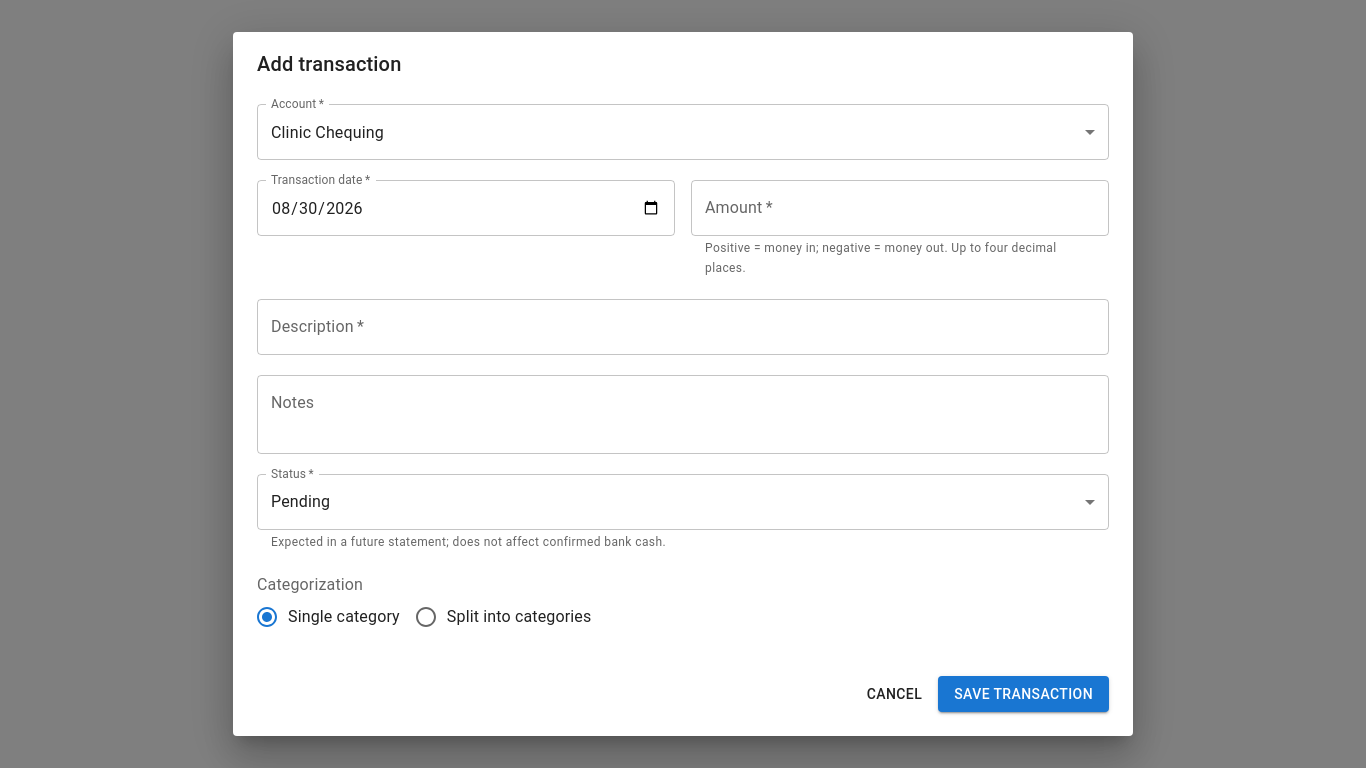
Scenario: transaction presentation and form › keeps the draft and maps Laravel 422 field errors
Type "25.0000" into the field labelled "Amount *".
click(900, 208); type("25.0000")  # box x1=691 y1=180 x2=1109 y2=236
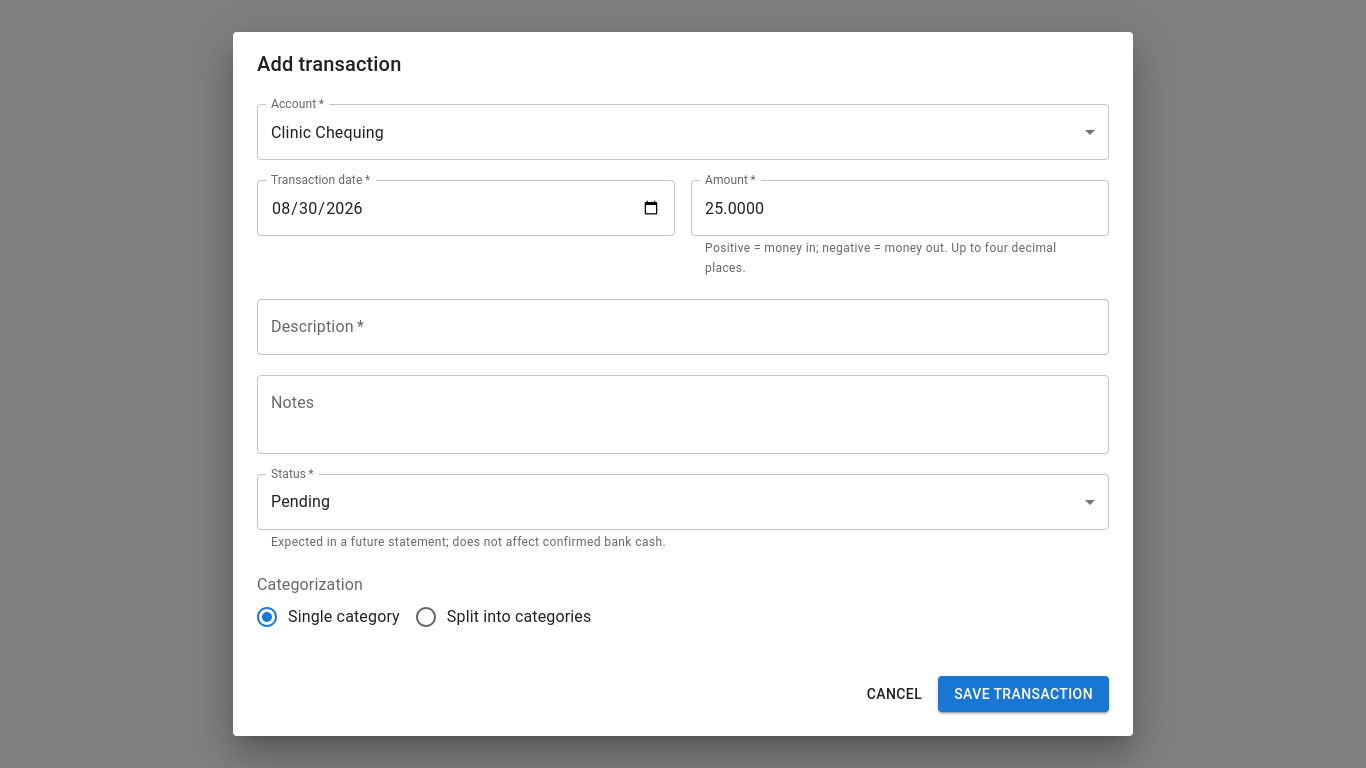
Type "Kept draft" into the field labelled "Description *".
click(683, 327); type("Kept draft")  # box x1=257 y1=299 x2=1109 y2=355
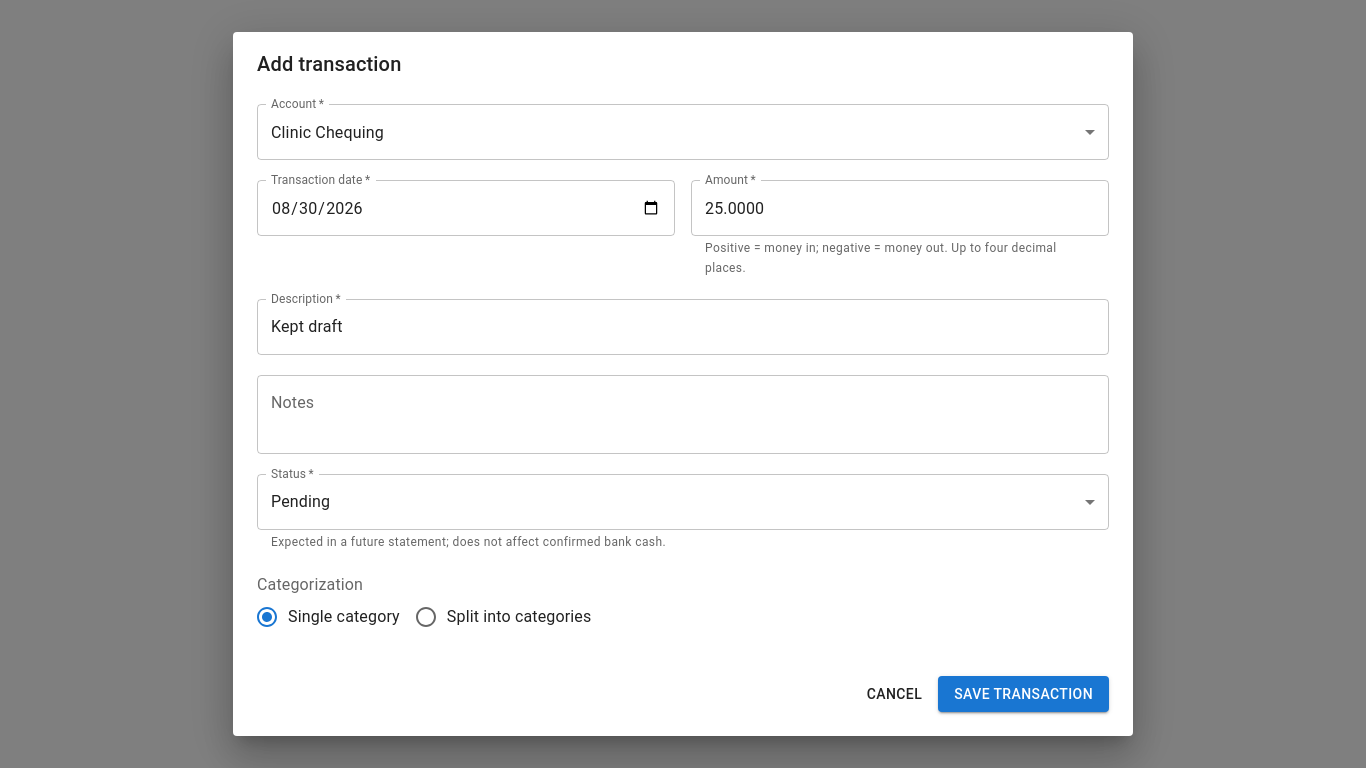
Click the button "Save transaction".
click(1024, 694)  # box x1=938 y1=676 x2=1109 y2=712
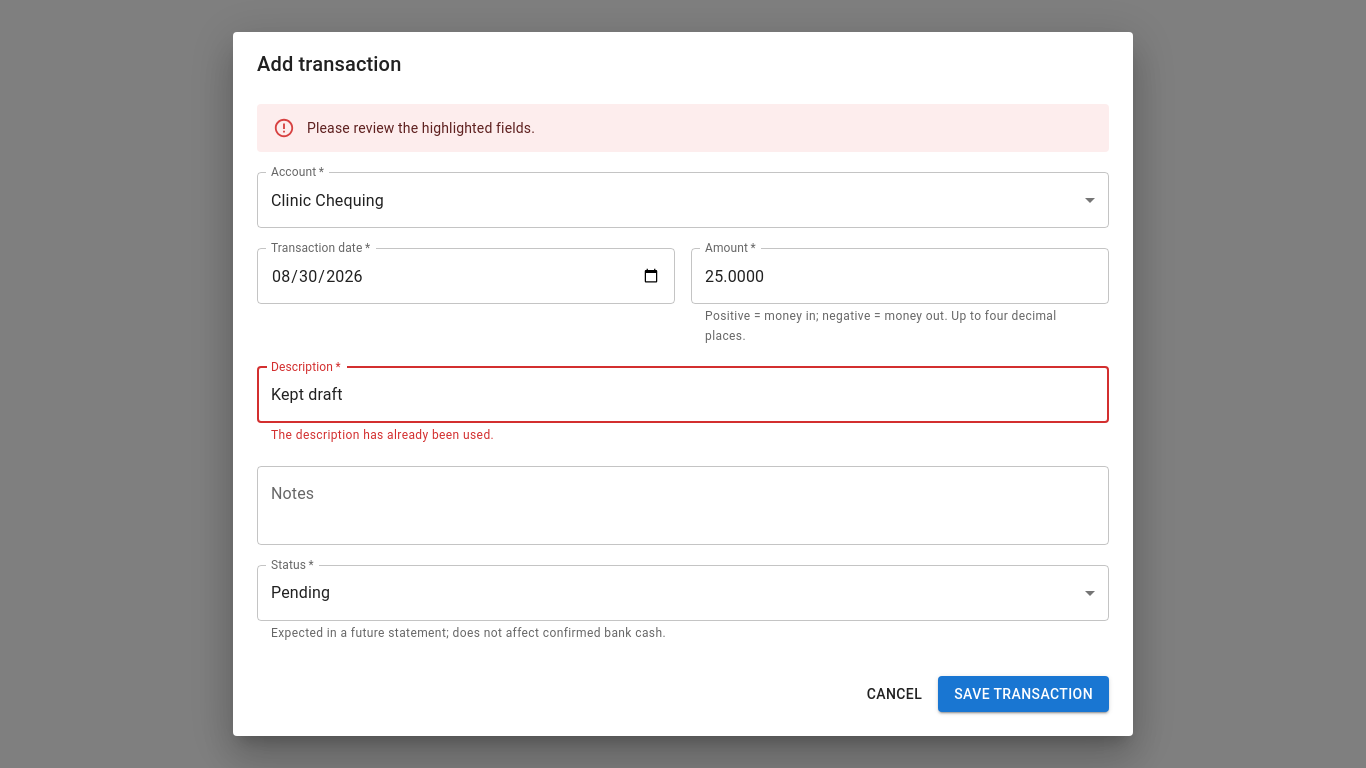
Now the text "The description has already been used." is shown, box x1=271 y1=428 x2=494 y2=442
